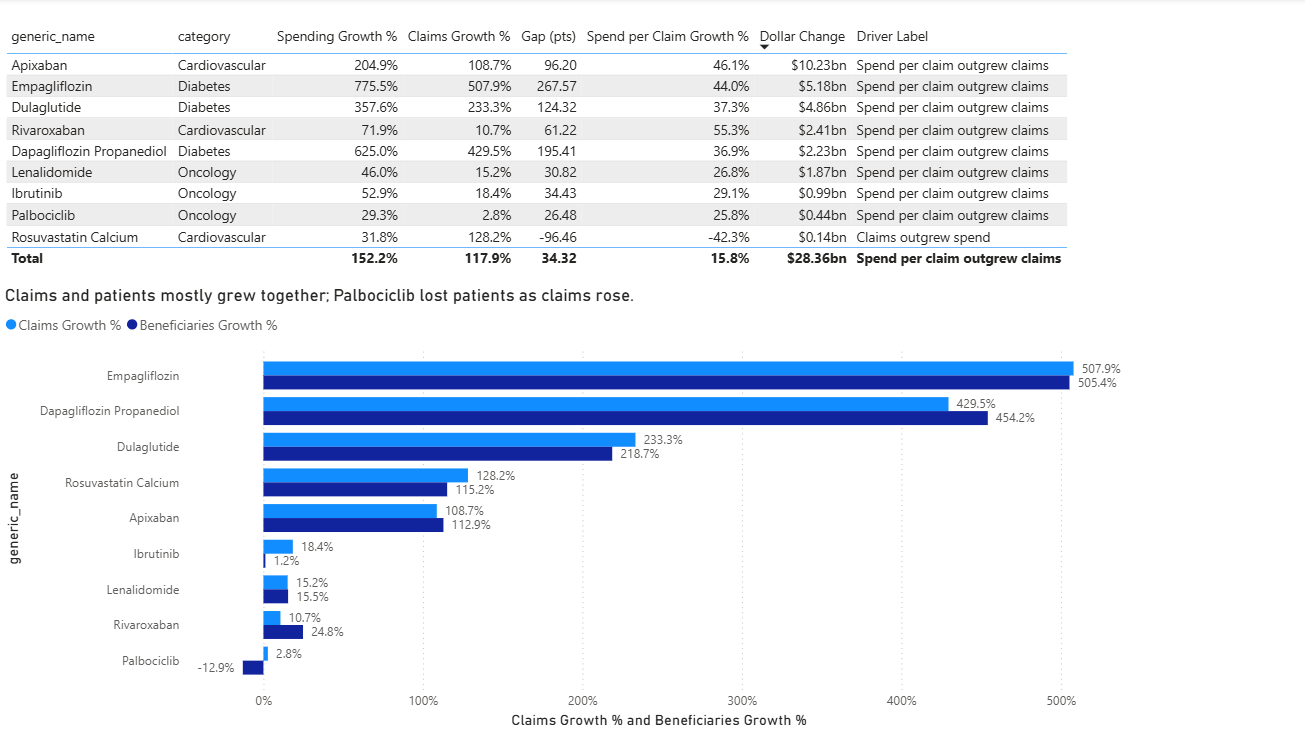

Layout of this report page (visuals, bound fields, positions):
{"tool":"powerbi","page":{"name":"Drug Details","canvas":[1280,720],"ordinal":2},"visuals":[{"type":"tableEx","fields":{"Values":["cms_part_d_clean.generic_name","cms_part_d_clean.category","cms_part_d_clean.Spending Growth %","cms_part_d_clean.Claims Growth %","cms_part_d_clean.Gap (pts)","cms_part_d_clean.Spend per Claim Growth %","cms_part_d_clean.Dollar Change","cms_part_d_clean.Driver Label"]},"box":[0,20.5,1136.9,282.9],"z":0},{"type":"clusteredBarChart","title":"Claims and patients mostly grew together; Palbociclib lost patients as claims rose.","fields":{"Category":["cms_part_d_clean.generic_name"],"Y":["cms_part_d_clean.Claims Growth %","cms_part_d_clean.Beneficiaries Growth %"]},"box":[0,280.4,1125.3,439.1],"z":1000}]}

Visuals, with their boxes in screenshot pixels (x1, y1, x2, y2), scaled from the page's 1280x720 canvas onto the 1305x732 screenshot:
tableEx - cms_part_d_clean.generic_name x cms_part_d_clean.category: (x1=0, y1=21, x2=1159, y2=308)
"Claims and patients mostly grew together; Palbociclib lost patients as claims rose." clusteredBarChart: (x1=0, y1=285, x2=1147, y2=731)
